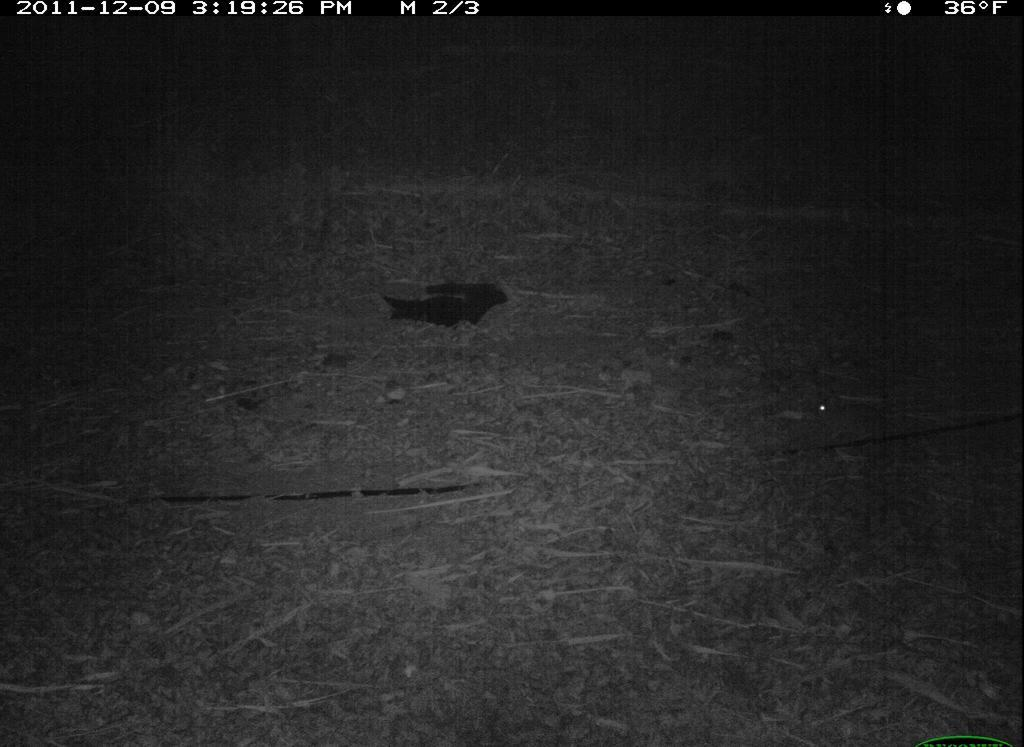rabbit: (803, 379, 903, 463)
